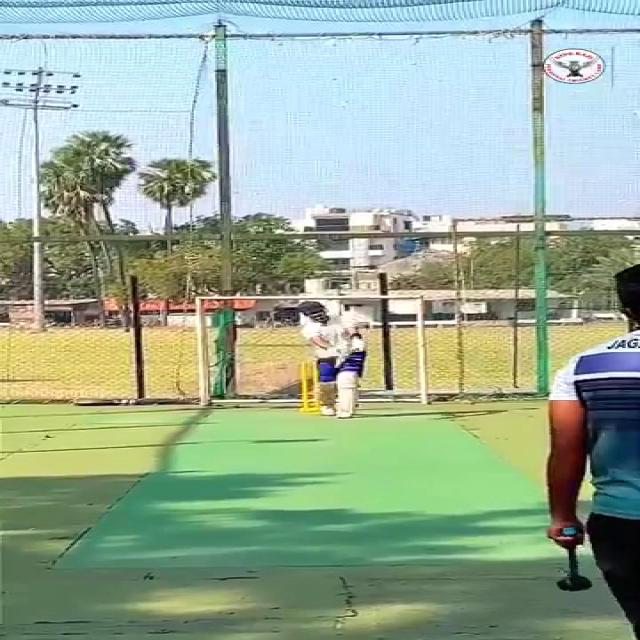batsman: (286, 294, 382, 422)
